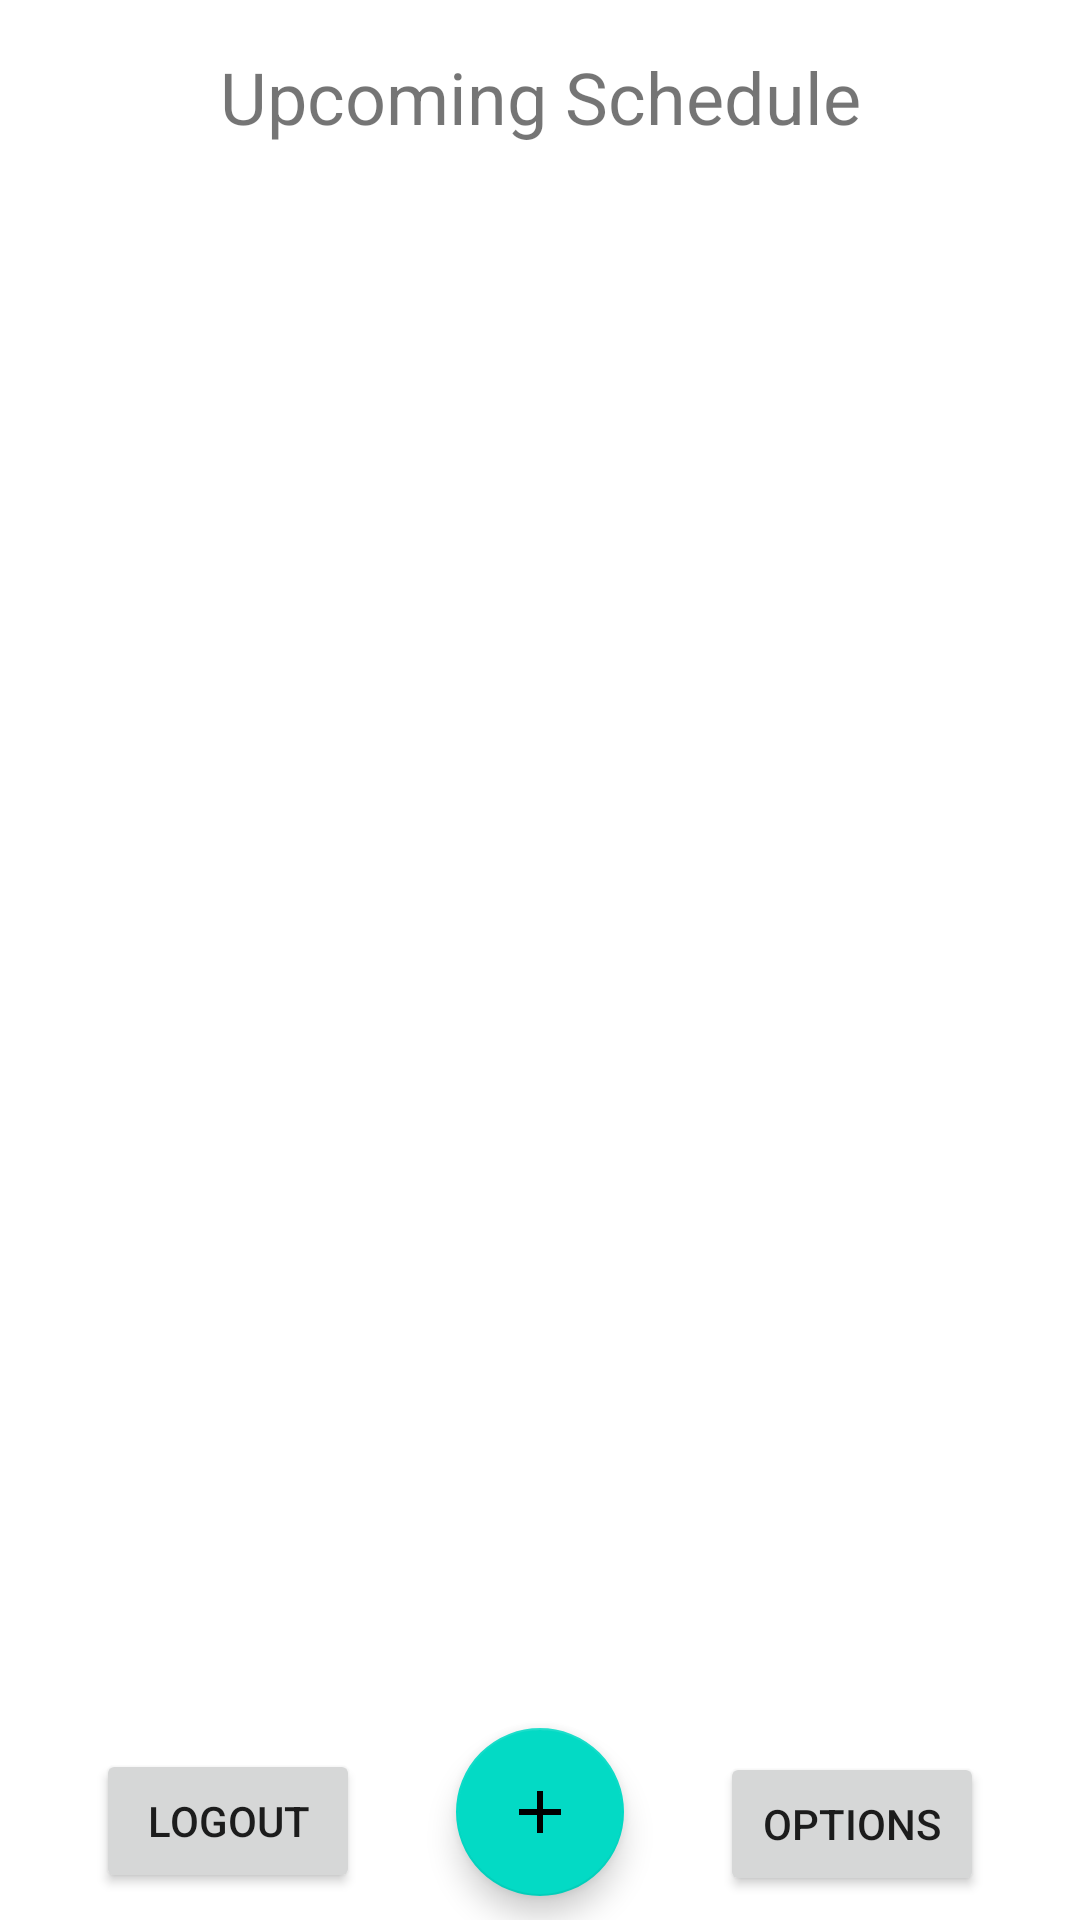

Screen size 1080 x 1920. Icon name, then its center in pixels as point (x, y):
add task: point (540, 1812)
